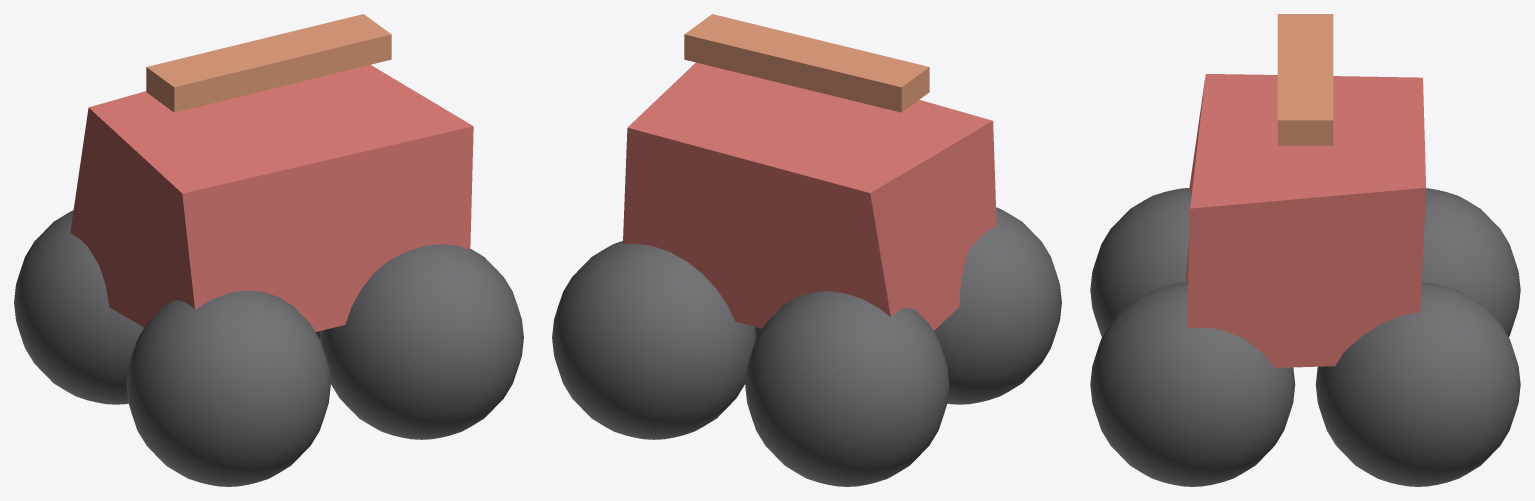
File: clay_fire_truck.glb
3 renders of one model, left to right at view 1: azimuth 30°, elevation 25°; view 2: azimuth 150°, elevation 25°; view 3: azimuth 270°, elevation 25°, orthographic.
Parts seen in each view (by area): view 1: ladder; view 2: ladder; view 3: ladder.
Part boxes in pixels (x1=…): ladder: x1=14, y1=14, x2=523, y2=486; ladder: x1=552, y1=14, x2=1061, y2=486; ladder: x1=1090, y1=14, x2=1520, y2=486.
Size of the model in its own units: 0.9201 by 0.86 by 0.924.
